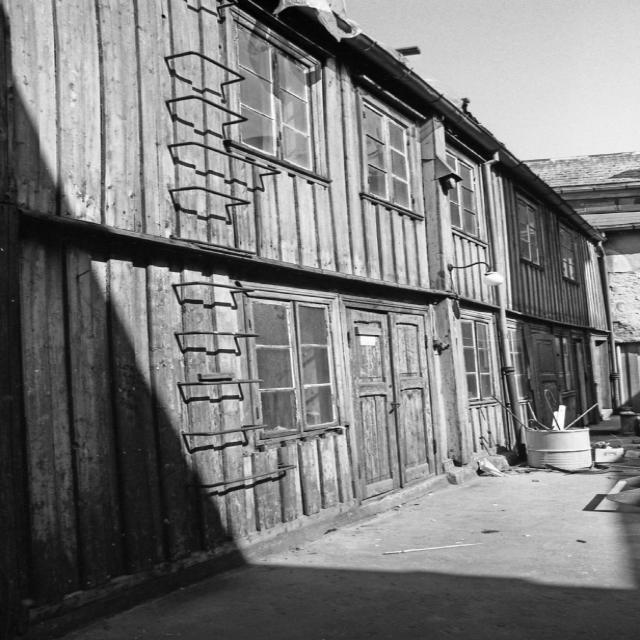door: (446, 308, 516, 477)
